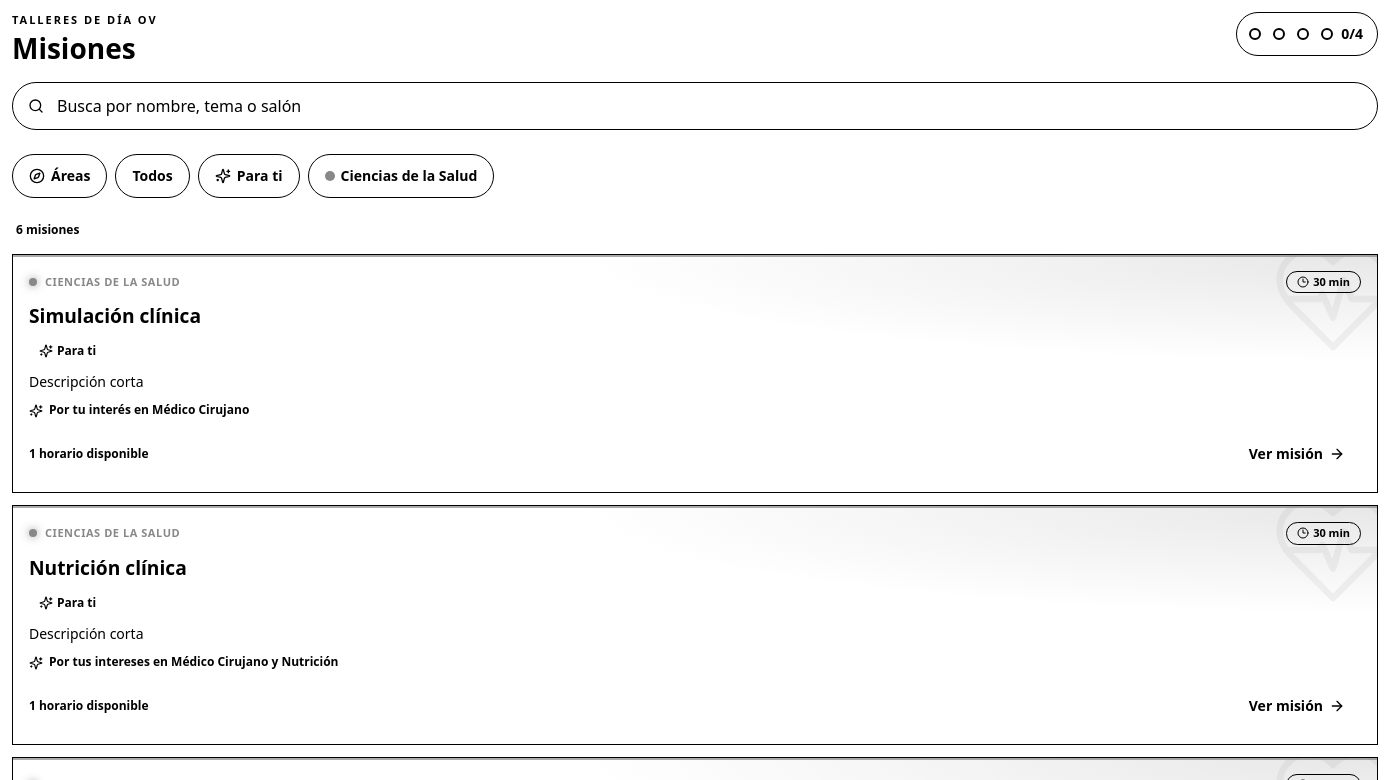
Test: «Para ti» adds one short introduction (no modal, no onboarding) and «Todos» removes it
Step 1. Click the button "Para ti" → coordinates (249, 176), box [198,154,300,198]
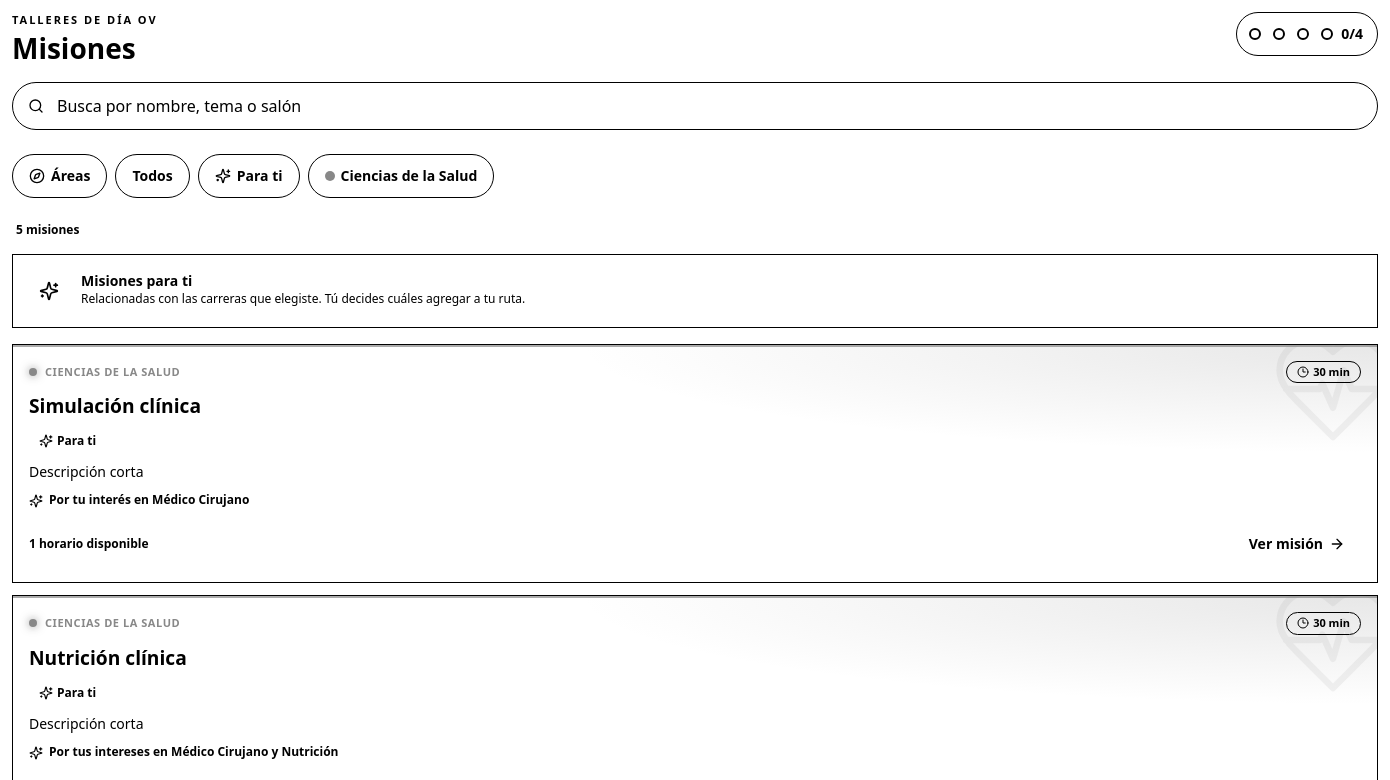
expect the 1st link "Ver misión" is shown: met, box [1249,534,1345,553]
expect the text "Misiones para ti" is shown: met, box [81,270,192,290]
expect the text "Relacionadas con las carreras que elegiste. Tú decides cuáles agregar a tu ruta." is shown: met, box [81,290,525,306]
Step 2. Click the button "Todos" → coordinates (153, 176), box [115,154,190,198]
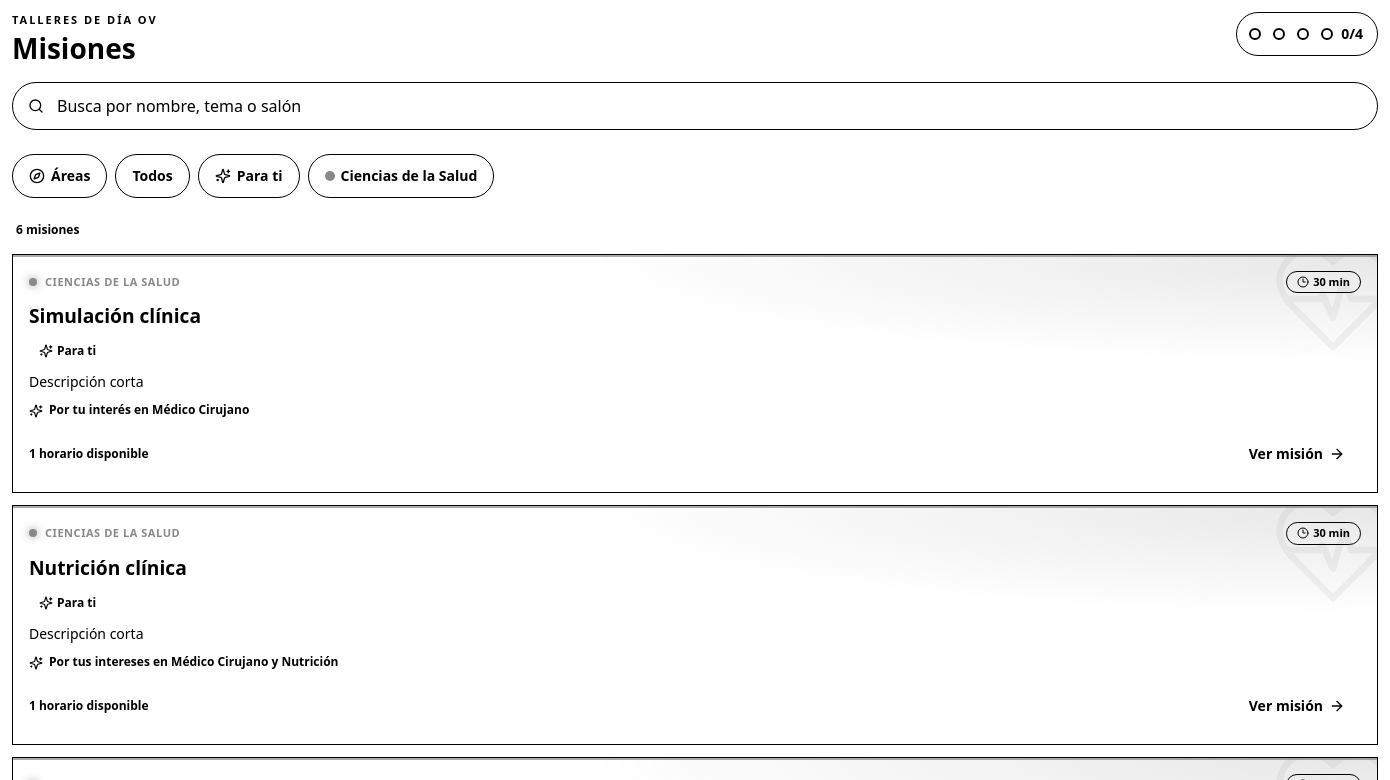
expect the text "Misiones para ti" is gone: met
